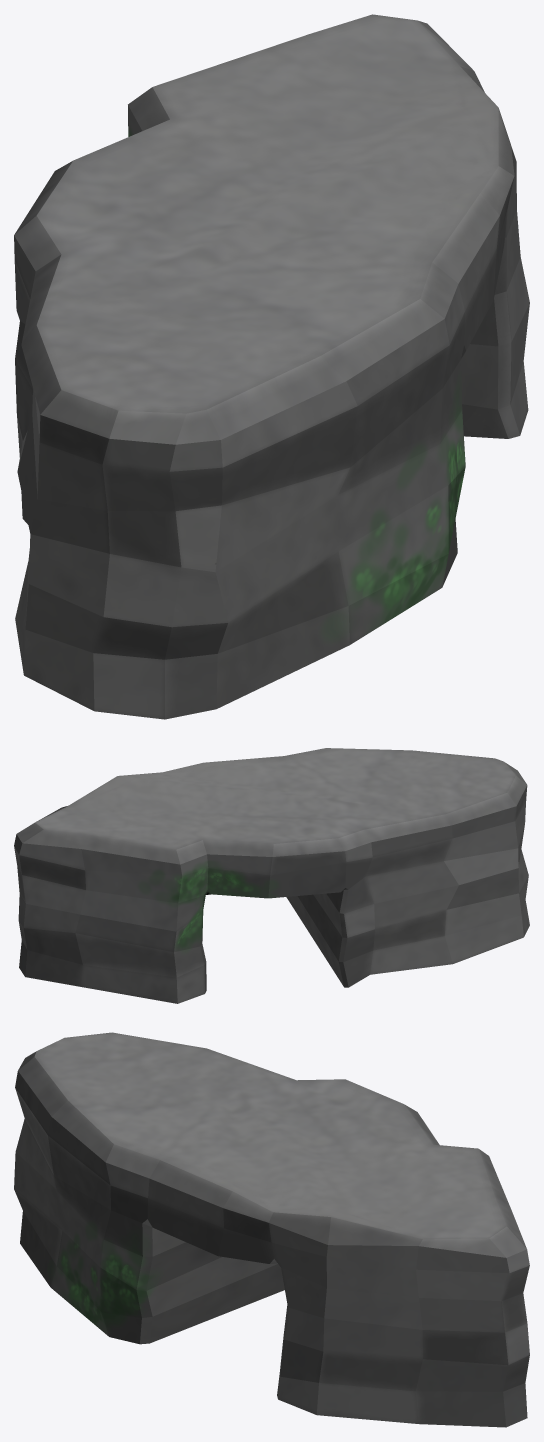
Rendered from batu 2.fbx.
3 renders of one model, top to bottom at view 1: azimuth 30°, elevation 25°; view 2: azimuth 150°, elevation 25°; view 3: azimuth 270°, elevation 25°, orthographic. The views are drawn at different scales.
Parts seen in each view (by area): view 1: Plane.009; view 2: Plane.009; view 3: Plane.009.
Part boxes in pixels (x1,y1,x2,y2): Plane.009: [14, 14, 529, 719]; Plane.009: [14, 748, 529, 1003]; Plane.009: [14, 1032, 529, 1427].
Size of the model in its own units: 495 by 204 by 484.
